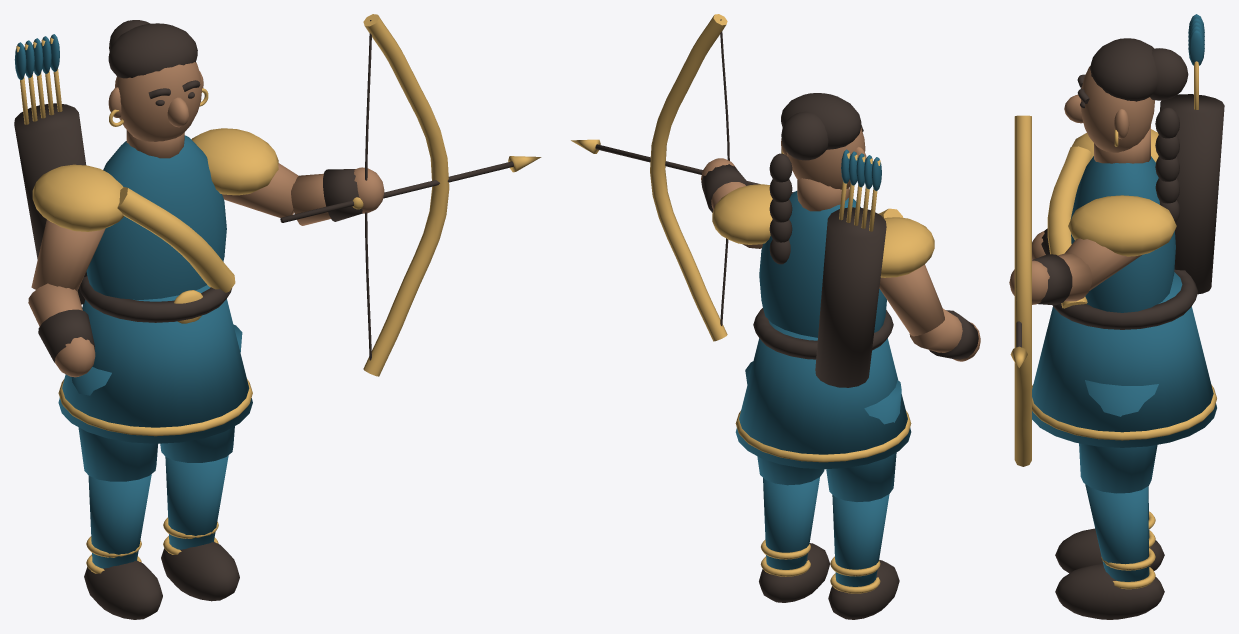
File: archer.glb
3 renders of one model, left to right at view 1: azimuth 30°, elevation 25°; view 2: azimuth 150°, elevation 25°; view 3: azimuth 270°, elevation 25°, orthographic. The views are drawn at different scales.
Visible parts, largest first — view 1: archer; view 2: archer; view 3: archer.
Part boxes in pixels (x1,y1,x2,y2): archer: (14,14,541,619); archer: (571,14,980,619); archer: (1009,14,1224,619).
Bounding box in the file's own units: 1.28 × 1.51 × 0.5219.
